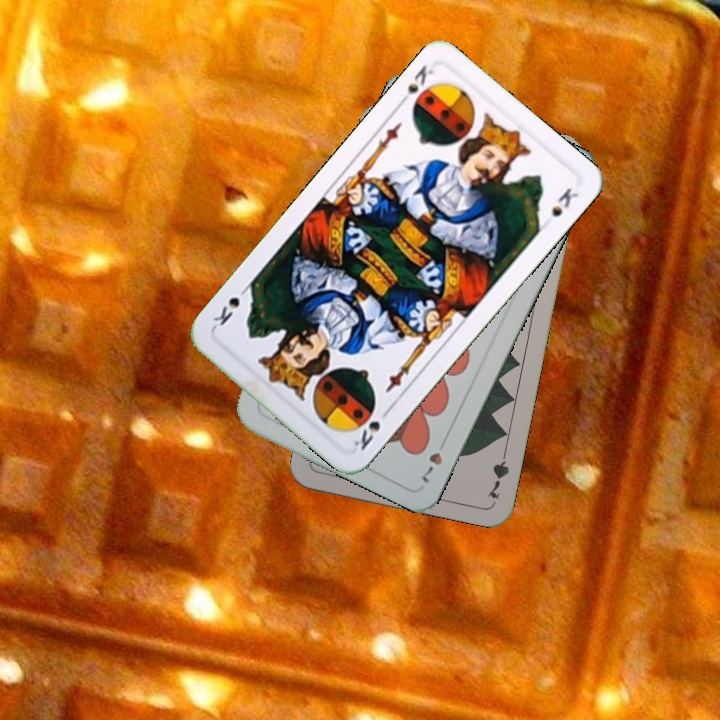G7: (483, 443, 512, 501)
H7: (418, 432, 450, 486)
SK: (347, 404, 394, 454), (394, 61, 436, 110)
